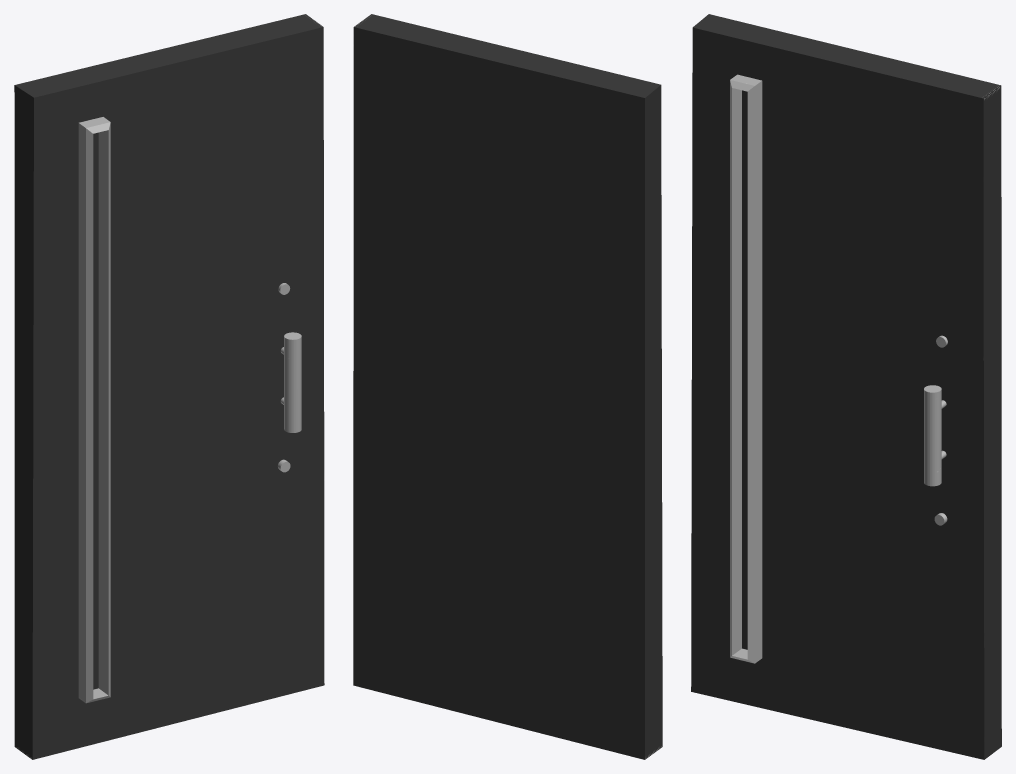
The model's file is door_front.glb.
The picture shows the model from 3 angles, left to right: view 1: azimuth 30°, elevation 25°; view 2: azimuth 150°, elevation 25°; view 3: azimuth 330°, elevation 25°; orthographic projection.
Parts seen in each view (by area): view 1: Plane.002; view 2: Plane.002; view 3: Plane.002.
Part boxes in pixels (x1,y1,x2,y2): Plane.002: (14, 14, 324, 759); Plane.002: (353, 14, 662, 759); Plane.002: (691, 14, 1001, 759).
Size of the model in its own units: 0.5906 by 1.28 by 0.1124.
Materials: 1 (1 with a texture image).
